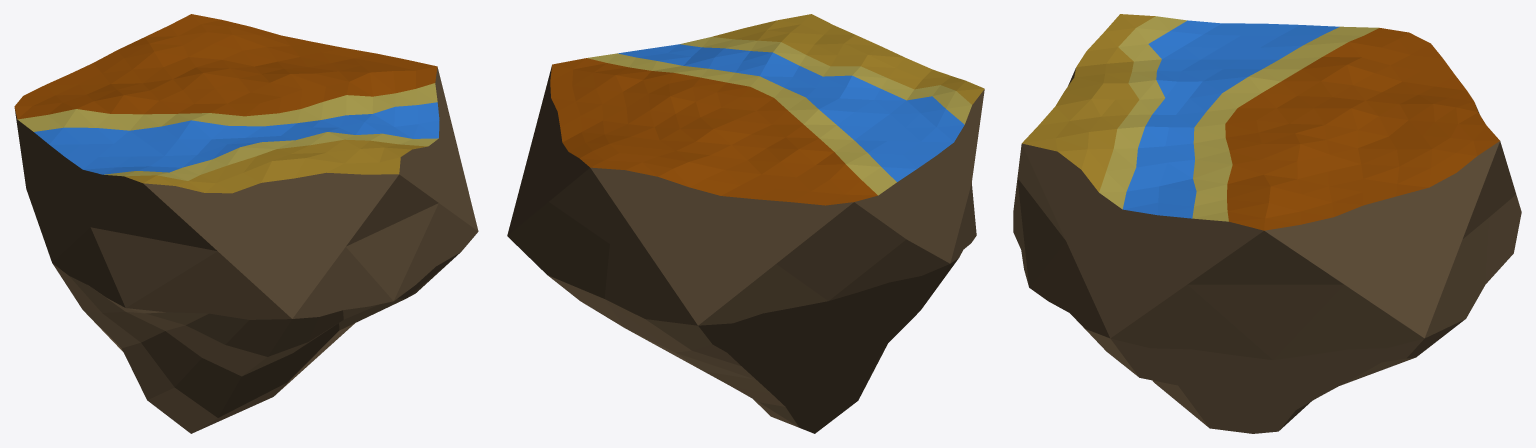
Rendered from terrain02 - april 30th 2016.fbx.
The picture shows the model from 3 angles, left to right: view 1: azimuth 30°, elevation 25°; view 2: azimuth 150°, elevation 25°; view 3: azimuth 270°, elevation 25°; orthographic projection. The views are drawn at different scales.
Parts seen in each view (by area): view 1: Icosphere; view 2: Icosphere; view 3: Icosphere.
Boxes of the visible parts, bbox=[...] form: Icosphere: bbox=[14, 14, 478, 433]; Icosphere: bbox=[507, 14, 984, 433]; Icosphere: bbox=[1013, 14, 1521, 433].
Size of the model in its own units: 169 by 133 by 170.
